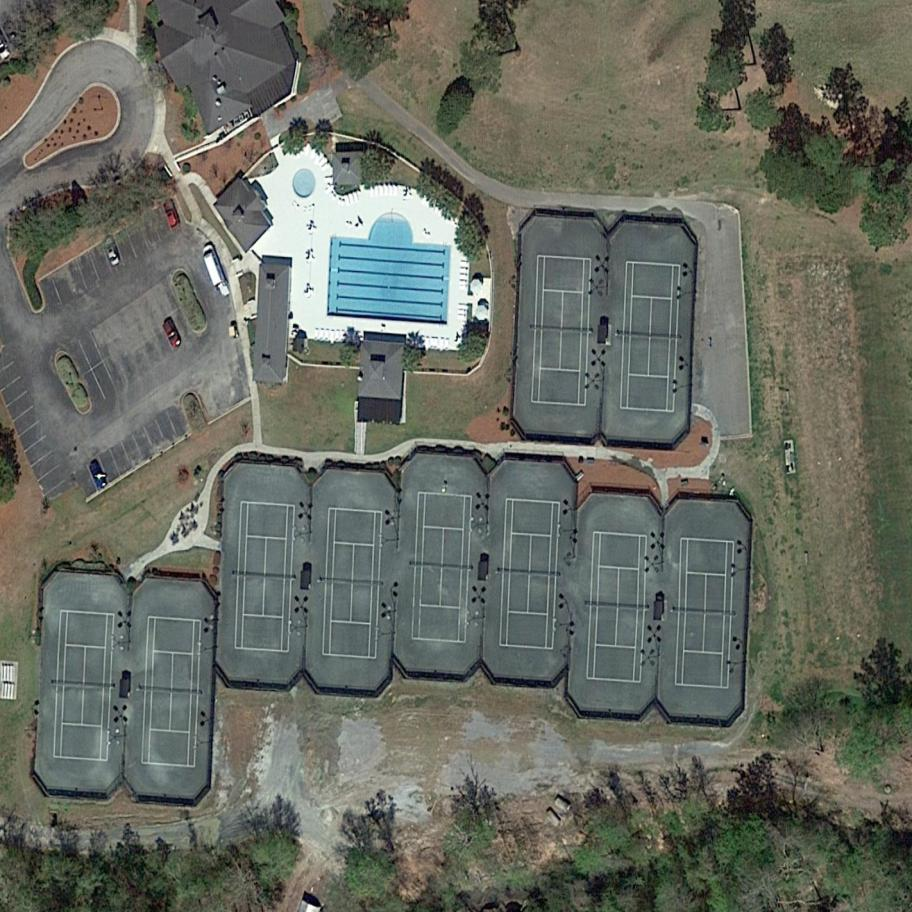large-vehicle: (200, 242, 230, 291)
small-vehicle: (86, 458, 110, 494), (160, 196, 183, 232), (160, 318, 184, 351), (104, 242, 121, 268)
